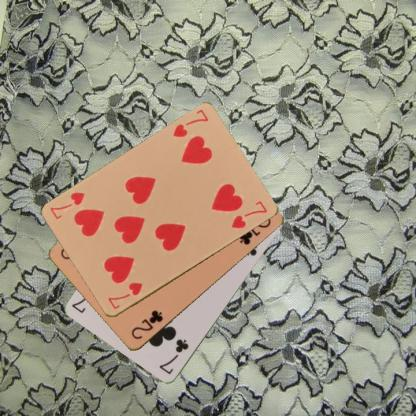2c: (128, 307, 165, 341)
7c: (157, 337, 190, 376)
7h: (170, 107, 210, 139), (105, 280, 144, 310)
